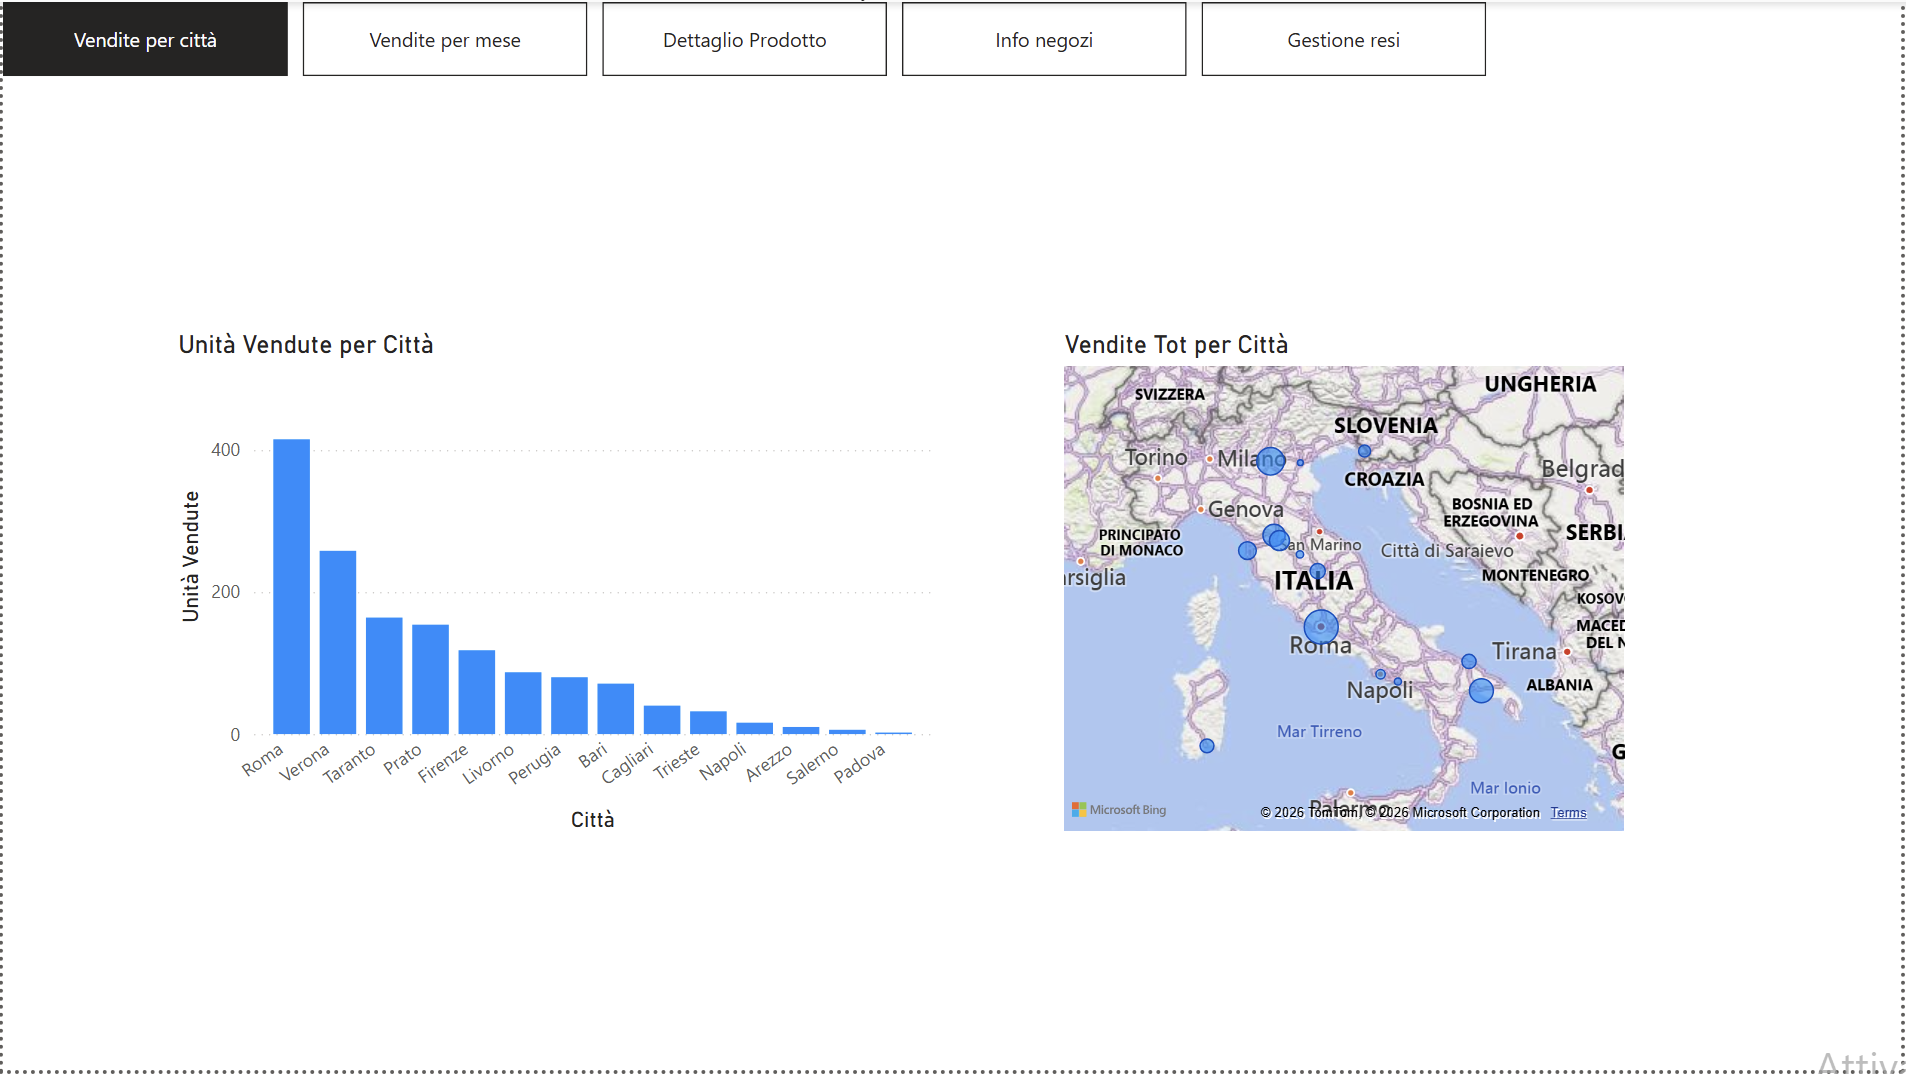

This screenshot's page, from the dashboard's own definition file:
{"tool":"powerbi","page":{"name":"Vendite per città","canvas":[1280,720],"ordinal":0},"visuals":[{"type":"clusteredColumnChart","fields":{"Category":["Negozi.Città"],"Y":["Calendario.Unità Vendute"]},"box":[113.8,221.7,517.3,342.9],"z":0},{"type":"map","fields":{"Category":["Negozi.Città"],"Size":["Calendario.Vendite Tot"]},"box":[710.9,221.7,387.3,342.9],"z":1000},{"type":"pageNavigator","box":[0,0,1000.6,50.3],"z":1001}]}

Visuals, with their boxes on the page's 1280x720 design canvas (x1, y1, x2, y2). These are canvas units, not pixel positions in the 1906x1074 screenshot, which may show the page scaled, cropped or inside an application window:
clusteredColumnChart - Negozi.Città x Calendario.Unità Vendute: left=114, top=222, right=631, bottom=565
map - Negozi.Città x Calendario.Vendite Tot: left=711, top=222, right=1098, bottom=565
pageNavigator: left=0, top=0, right=1001, bottom=50
